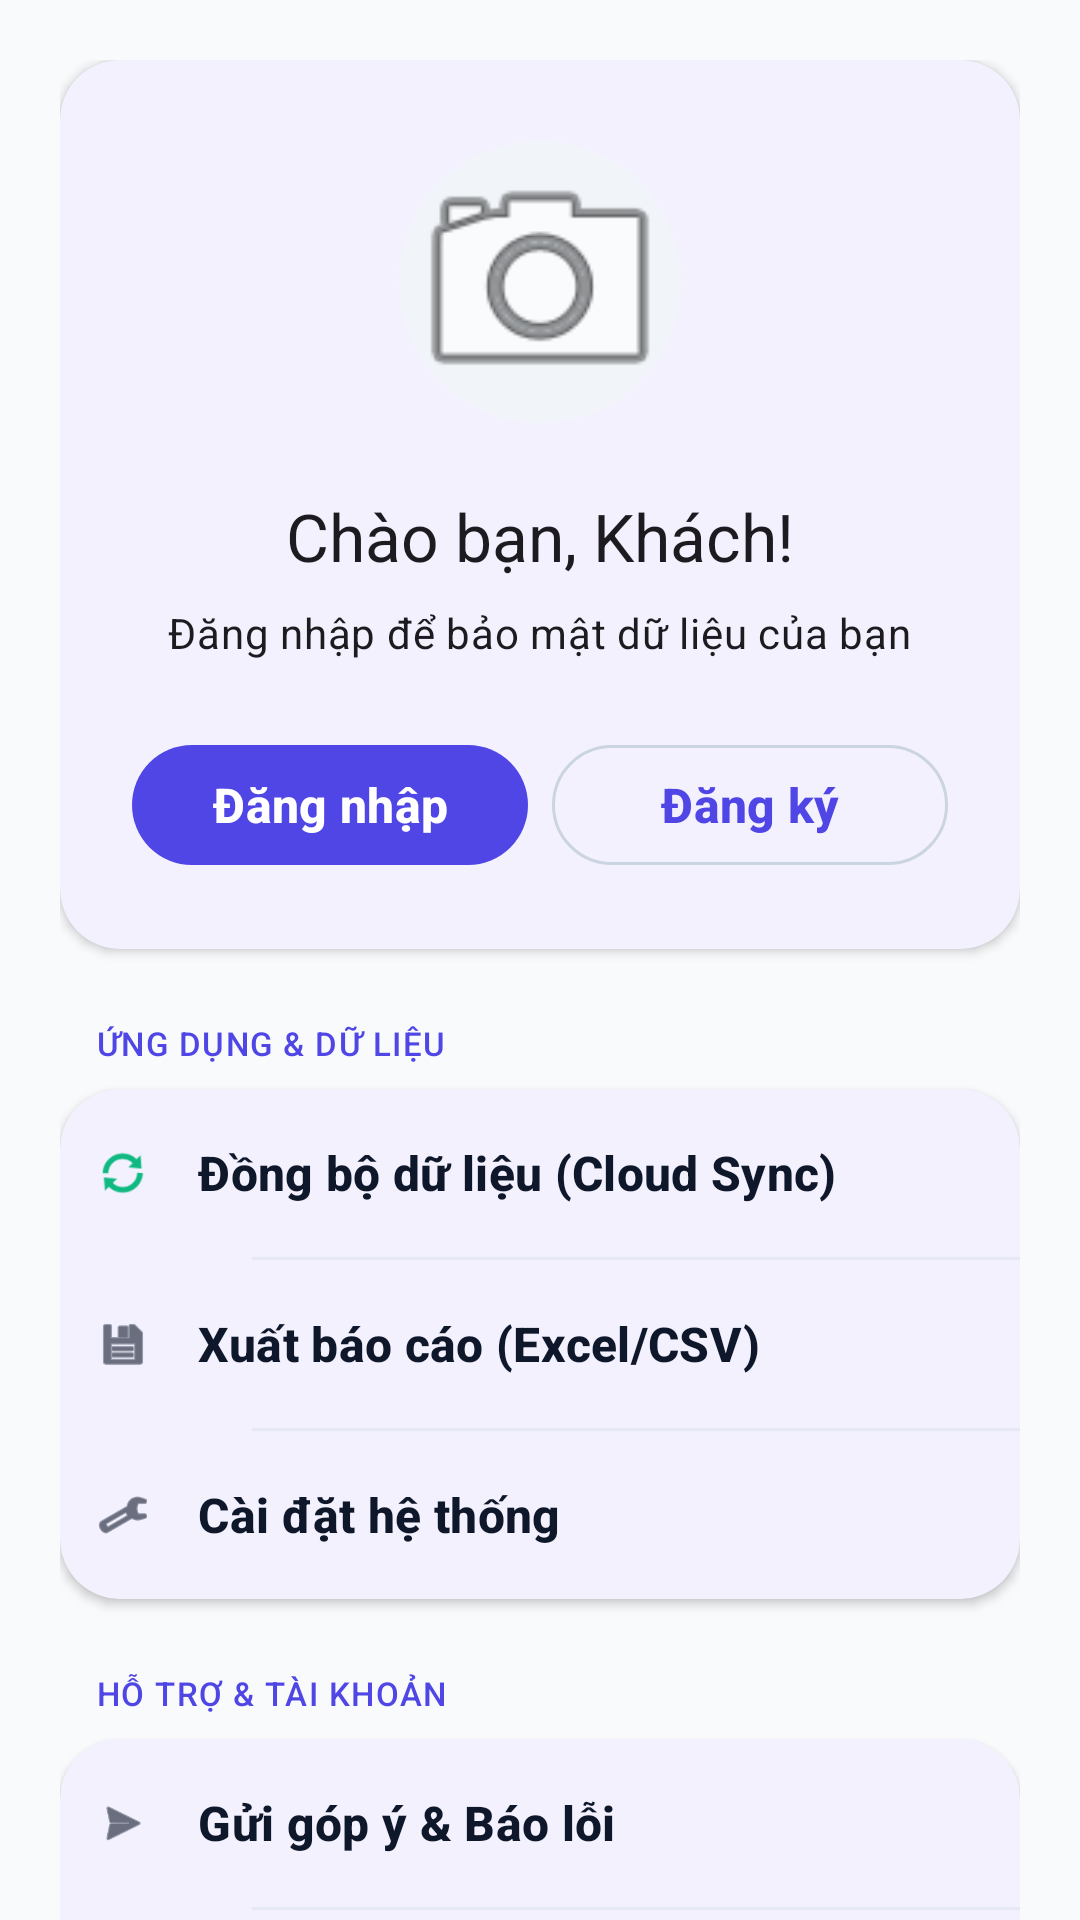

Locate icon controls on the screen. Image size 1080x1920, boxes as (x1, y1, x2, y2).
camera: (430, 190, 650, 366)
